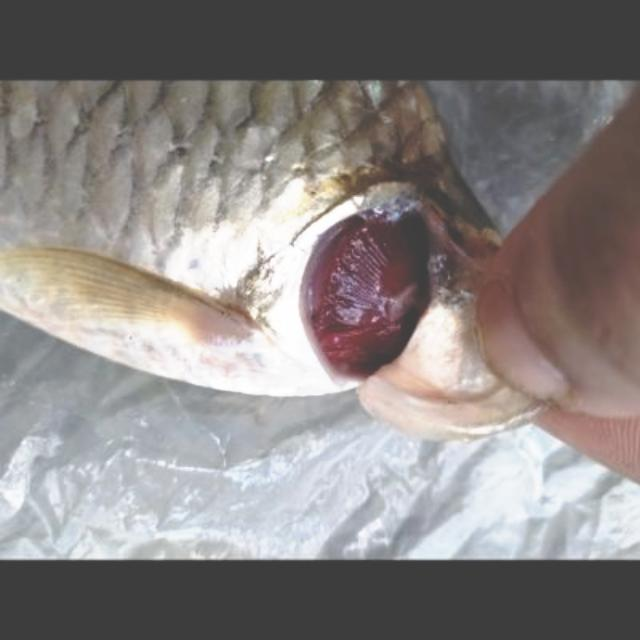Flavobacterium -Bacterial Gill Disease-: (0, 80, 536, 440), (0, 80, 536, 437)
